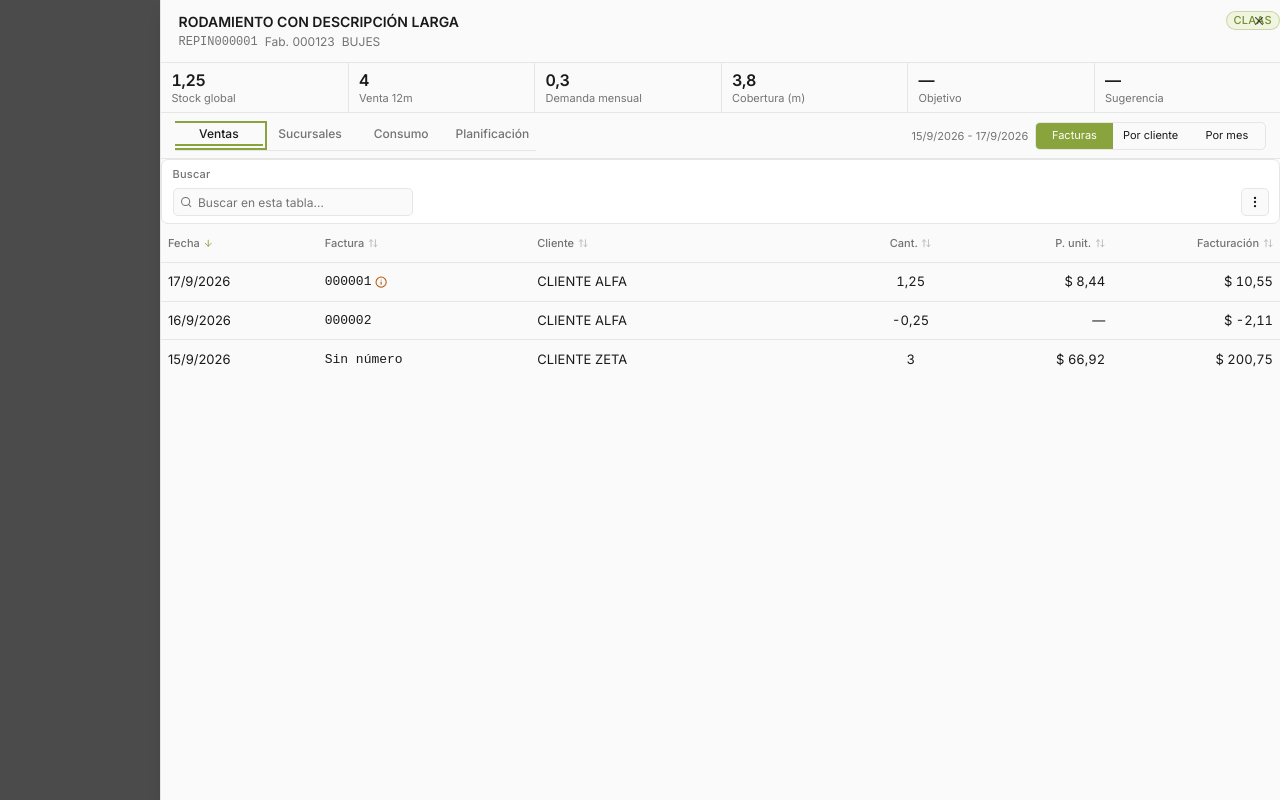
Test: compact part history sheet › keeps conversion evidence accessible without adding units to the quantity
Later steps or results of the test are not shown.
Expected: the cell "1,25" is shown, [855, 263, 967, 301]
Click the button named "Conversión de cantidad: 000001" at (381, 282), box [375, 276, 387, 288]
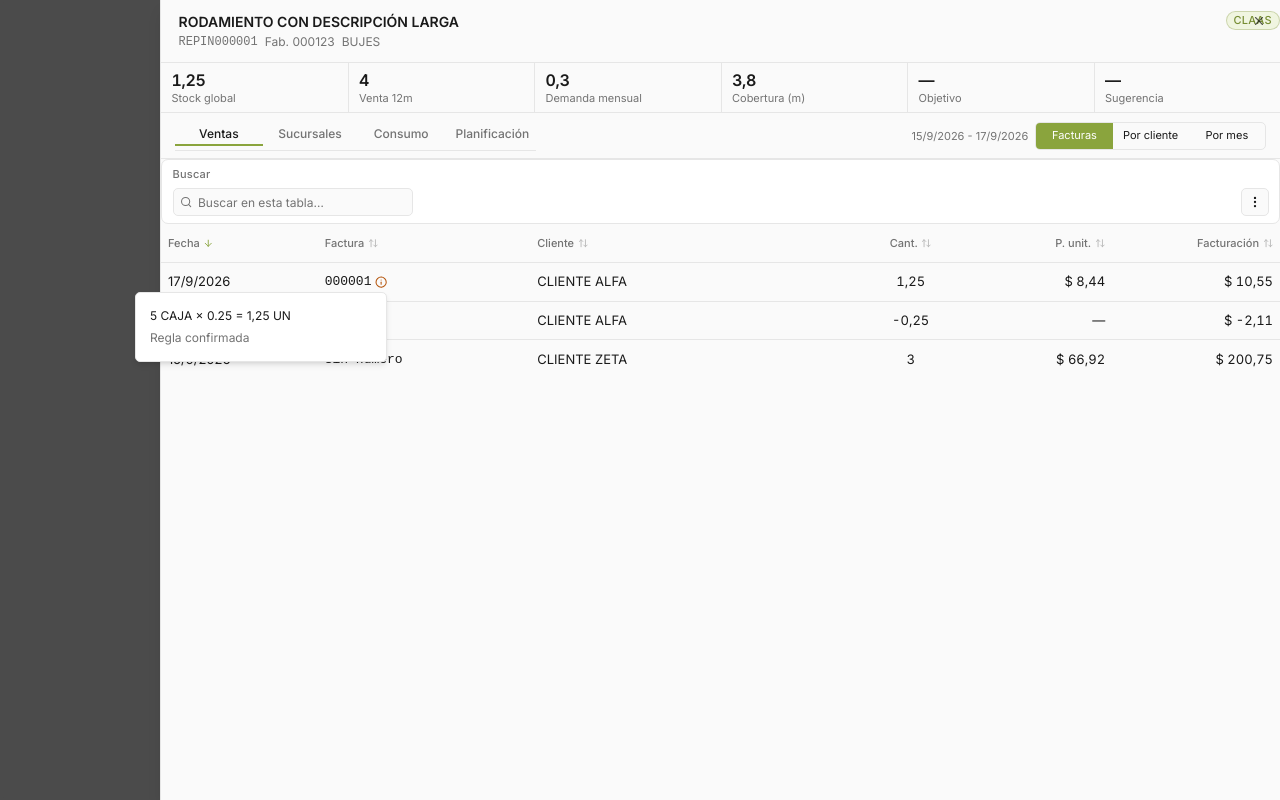
Expected: the dialog named "Conversión de cantidad" shows "5 CAJA × 0.25 = 1,25 UN", [150, 308, 291, 323]
Expected: the dialog named "Conversión de cantidad" shows "Regla confirmada", [150, 330, 250, 344]
